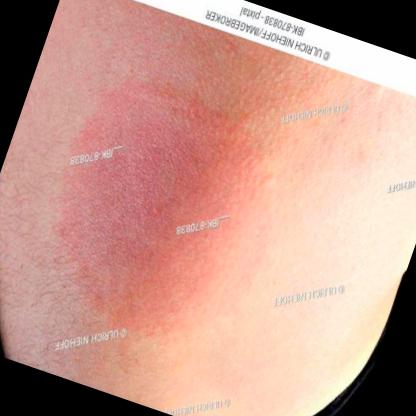Ringworm: (8, 48, 319, 378)
